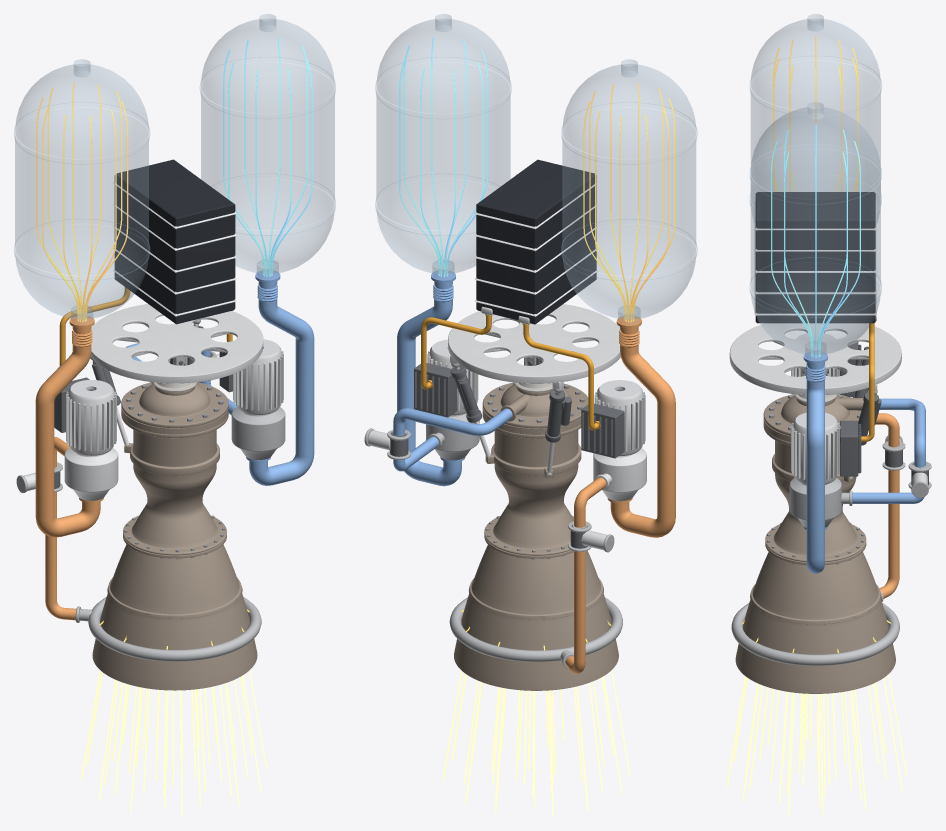
File: electric-pump_d.glb
3 views of the same model, side by side, from view 1: azimuth 30°, elevation 25°; view 2: azimuth 150°, elevation 25°; view 3: azimuth 270°, elevation 25° (orthographic). The views are drawn at different scales.
Parts seen in each view (by area): view 1: EP_TankFuel, EP_TankOxidizer, EP_Nozzle, EP_Battery, EP_ChamberJacket, EP_ThrustMount, EP_FLOW_HotGas, EP_FeedLineFuel, EP_FeedLineOxidizer, EP_FLOW_Fuel, EP_OxidizerDome, EP_MotorFuel (+8 smaller); view 2: EP_TankFuel, EP_TankOxidizer, EP_Battery, EP_Nozzle, EP_ChamberJacket, EP_ThrustMount, EP_FeedLineFuel, EP_FLOW_HotGas, EP_FeedLineOxidizer, EP_FLOW_Fuel, EP_FLOW_Oxidizer, EP_FuelManifold (+15 smaller); view 3: EP_TankOxidizer, EP_TankFuel, EP_Nozzle, EP_Battery, EP_ThrustMount, EP_FLOW_HotGas, EP_FeedLineOxidizer, EP_ChamberJacket, EP_FuelManifold, EP_FLOW_Oxidizer, EP_MotorOxidizer, EP_InletLineOxidizer (+9 smaller).
Boxes of the visible parts, x1,y1,x2,y2 form: EP_TankFuel: (14, 59, 149, 324); EP_TankOxidizer: (200, 14, 335, 279); EP_Nozzle: (92, 535, 257, 690); EP_Battery: (113, 159, 236, 324); EP_ChamberJacket: (121, 413, 228, 555); EP_ThrustMount: (90, 304, 263, 383); EP_FLOW_HotGas: (81, 670, 267, 816); EP_FeedLineFuel: (35, 316, 103, 537); EP_FeedLineOxidizer: (246, 270, 314, 485); EP_FLOW_Fuel: (36, 82, 249, 649); EP_OxidizerDome: (121, 382, 228, 428); EP_MotorFuel: (66, 380, 116, 455); EP_TankFuel: (561, 59, 697, 324); EP_TankOxidizer: (375, 14, 511, 279); EP_Battery: (475, 159, 597, 324); EP_Nozzle: (454, 535, 618, 690); EP_ChamberJacket: (482, 412, 581, 555); EP_ThrustMount: (448, 304, 620, 389); EP_FeedLineFuel: (607, 316, 675, 537); EP_FLOW_HotGas: (442, 670, 630, 816); EP_FeedLineOxidizer: (397, 270, 465, 486); EP_FLOW_Fuel: (461, 82, 675, 650); EP_FLOW_Oxidizer: (399, 37, 488, 277); EP_FuelManifold: (449, 597, 622, 668); EP_TankOxidizer: (750, 102, 881, 359); EP_TankFuel: (750, 14, 881, 222); EP_Nozzle: (735, 543, 895, 693); EP_Battery: (754, 192, 876, 323); EP_ThrustMount: (729, 323, 901, 395); EP_FLOW_HotGas: (726, 673, 907, 816); EP_FeedLineOxidizer: (803, 351, 827, 573); EP_ChamberJacket: (763, 425, 866, 562); EP_FuelManifold: (731, 590, 899, 665); EP_FLOW_Oxidizer: (771, 124, 860, 357); EP_MotorOxidizer: (791, 412, 840, 484); EP_InletLineOxidizer: (852, 398, 925, 503).
Size of the model in its own units: 0.5308 by 1.23 by 0.3193.
